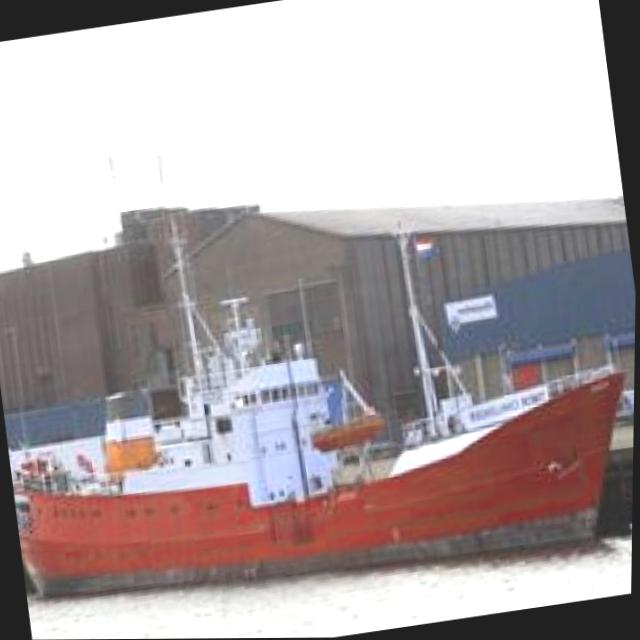ship2: (15, 212, 629, 600)
